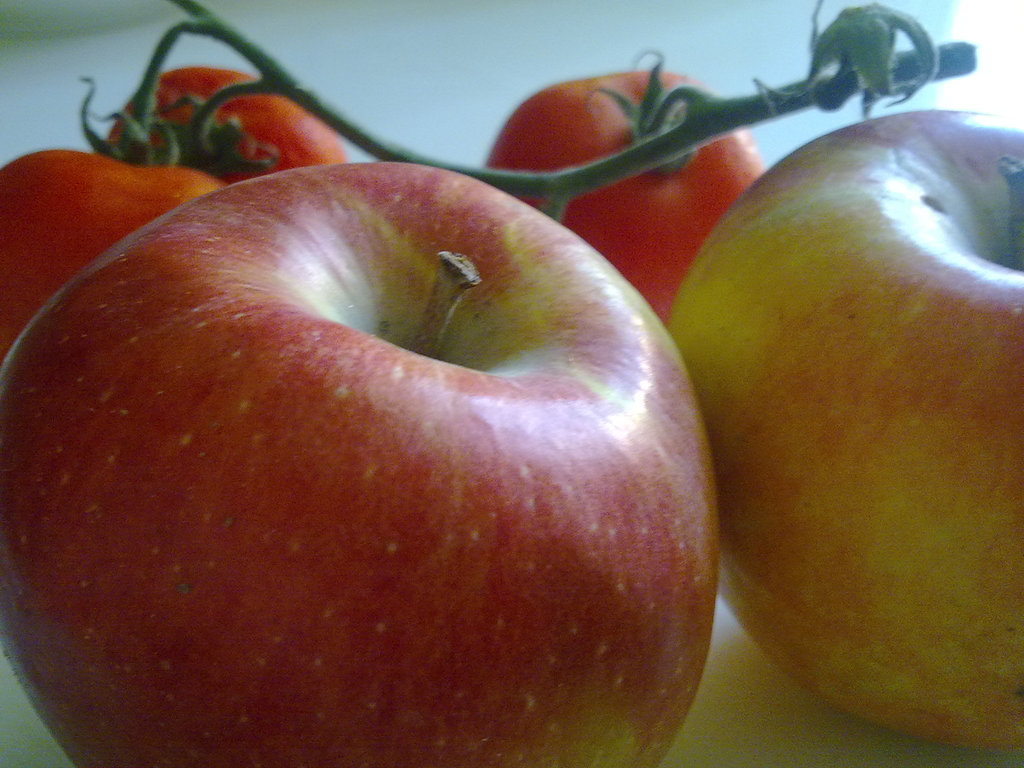Apple: (0, 158, 722, 767), (664, 101, 1023, 752)
